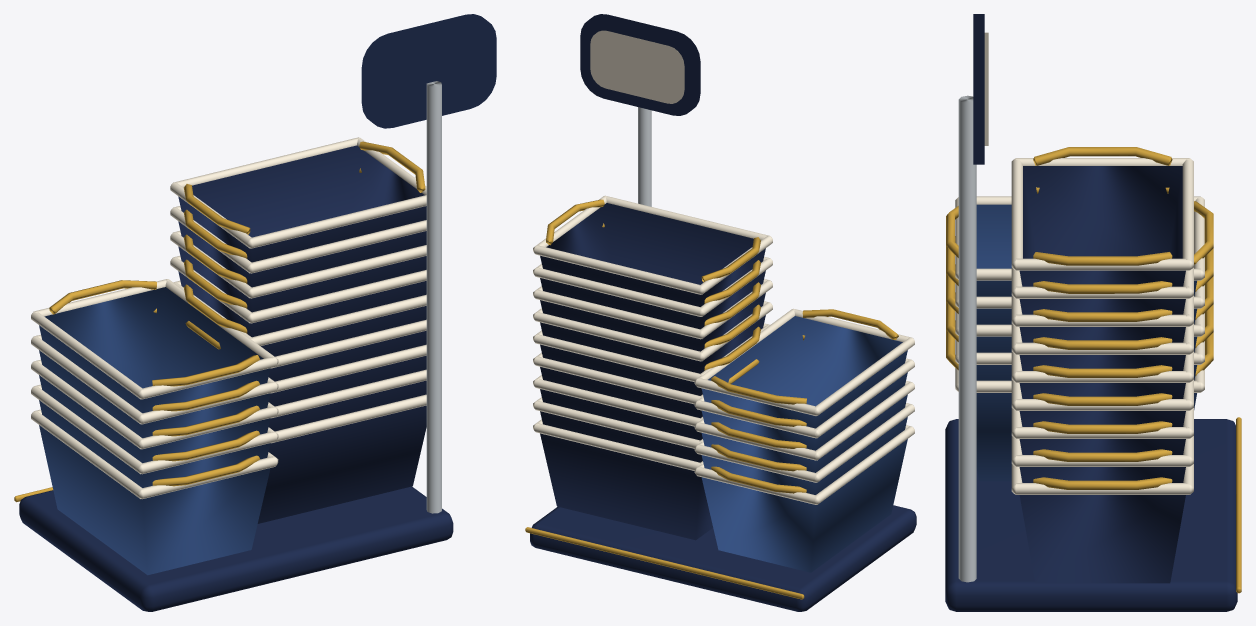
File: carts_T1.fbx
3 renders of one model, left to right at view 1: azimuth 30°, elevation 25°; view 2: azimuth 150°, elevation 25°; view 3: azimuth 270°, elevation 25°, orthographic. The views are drawn at different scales.
Visible parts, largest first — view 1: Body; view 2: Body; view 3: Body.
Boxes of the visible parts, x1,y1,x2,y2 form: Body: (14,14,496,611); Body: (525,14,916,611); Body: (945,14,1241,611).
Size of the model in its own units: 0.842 by 1.12 by 0.527.
